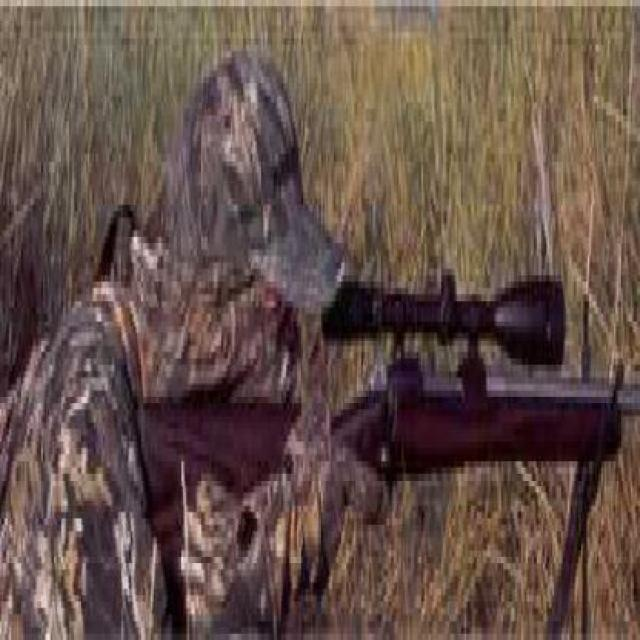weapon: (140, 252, 640, 522)
